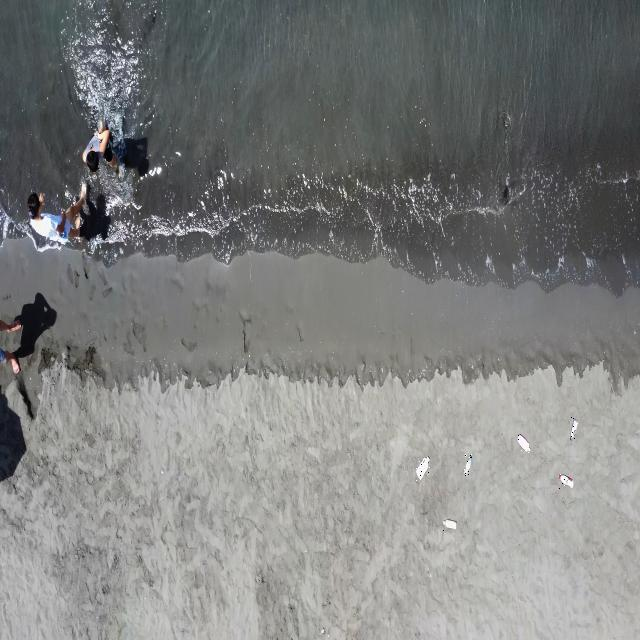Garbage: (415, 456, 428, 479), (517, 433, 527, 452), (560, 473, 572, 487), (569, 416, 576, 439), (464, 453, 471, 475), (444, 519, 455, 528), (320, 627, 324, 633)
